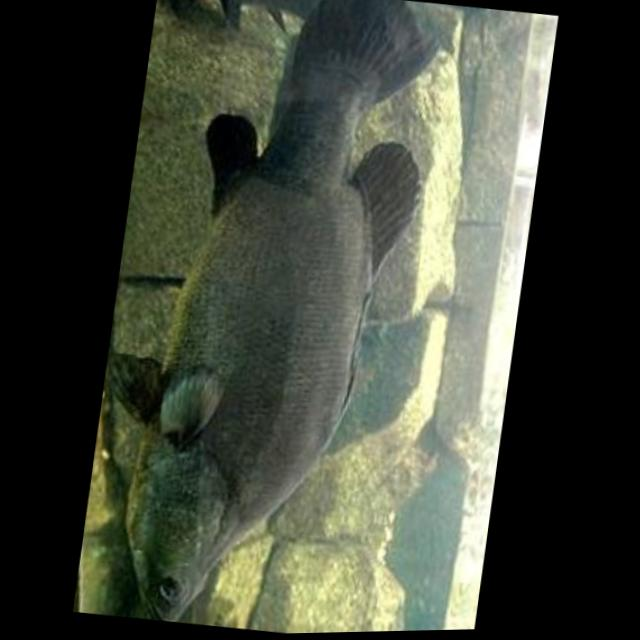Seabass: (73, 0, 446, 638)
